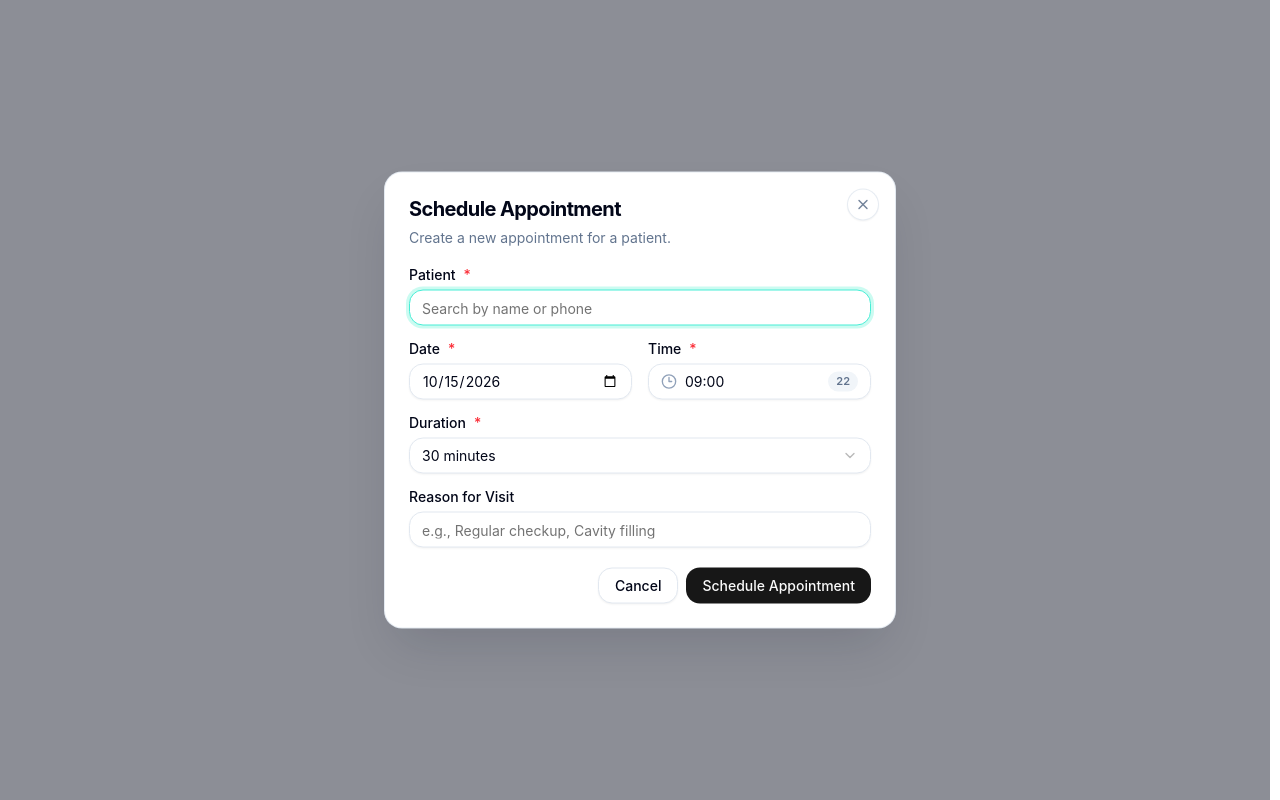
Test: AddAppointmentDialog › hides stale unmatched patient options while searching
Type "Sarvar Hasanov" into the dropdown with placeholder "Search by name or phone" at coordinates (640, 308), box x1=409 y1=290 x2=871 y2=326
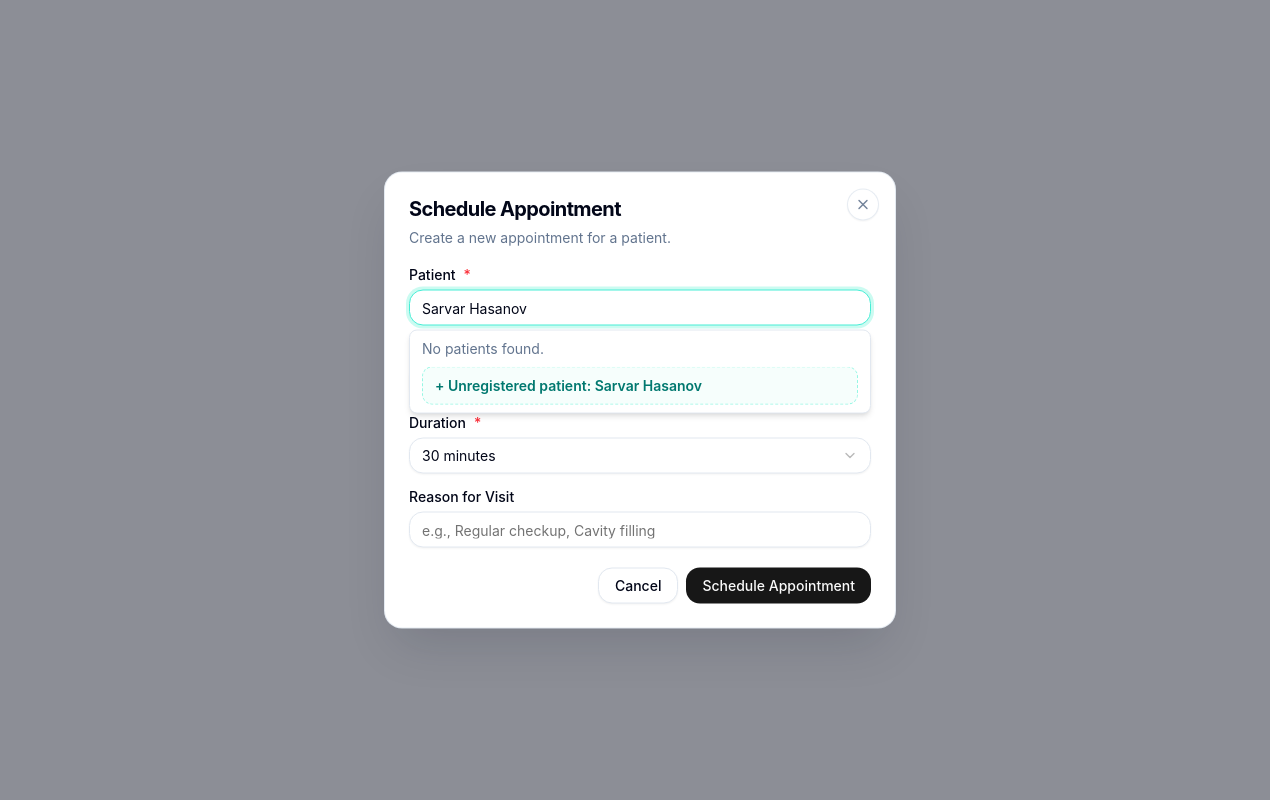
Now the option "Alisher Karimov" is gone
Now the option "Malika Yusupova" is gone
Now the button "+ Unregistered patient: Sarvar Hasanov" is shown, box x1=422 y1=366 x2=858 y2=404
